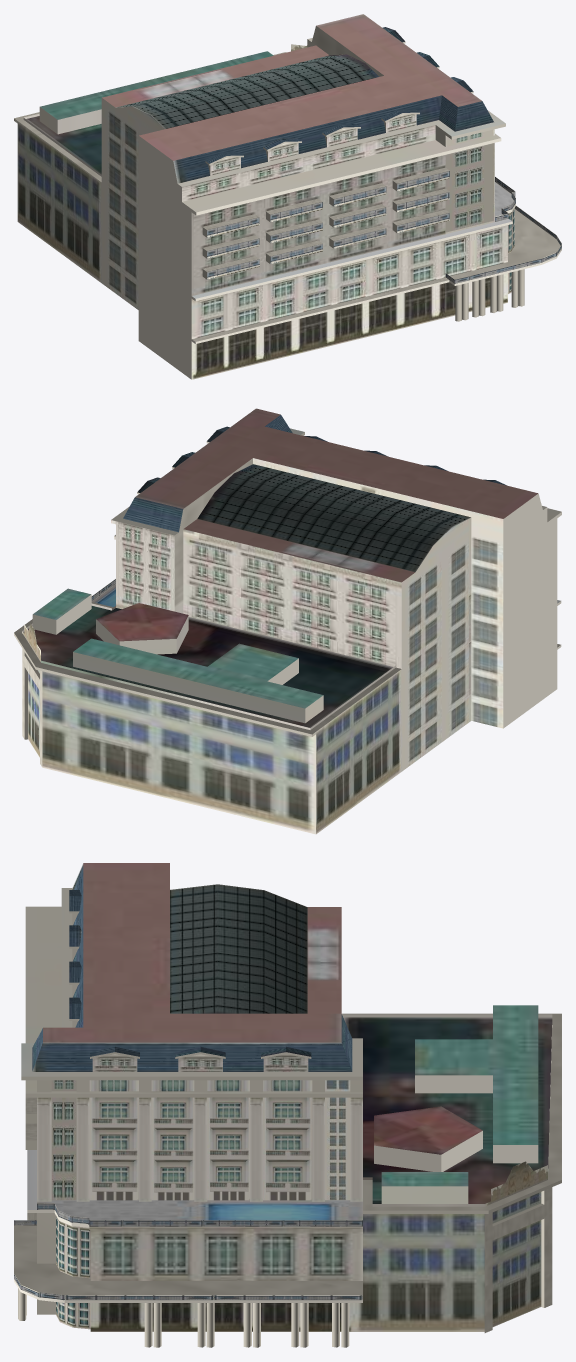
The picture shows the model from 3 angles, top to bottom: view 1: azimuth 30°, elevation 25°; view 2: azimuth 150°, elevation 25°; view 3: azimuth 270°, elevation 25°; orthographic projection. The views are drawn at different scales.
Parts seen in each view (by area): view 1: HN043___Hotel_de_l_Opera_Hanoi___MGallery; view 2: HN043___Hotel_de_l_Opera_Hanoi___MGallery; view 3: HN043___Hotel_de_l_Opera_Hanoi___MGallery.
Part boxes in pixels (<box>): HN043___Hotel_de_l_Opera_Hanoi___MGallery: <box>14,14,561,379</box>; HN043___Hotel_de_l_Opera_Hanoi___MGallery: <box>14,408,561,834</box>; HN043___Hotel_de_l_Opera_Hanoi___MGallery: <box>14,863,561,1347</box>.
Size of the model in its own units: 54.23 by 28.33 by 54.54.
Materials: 1 (1 with a texture image).
